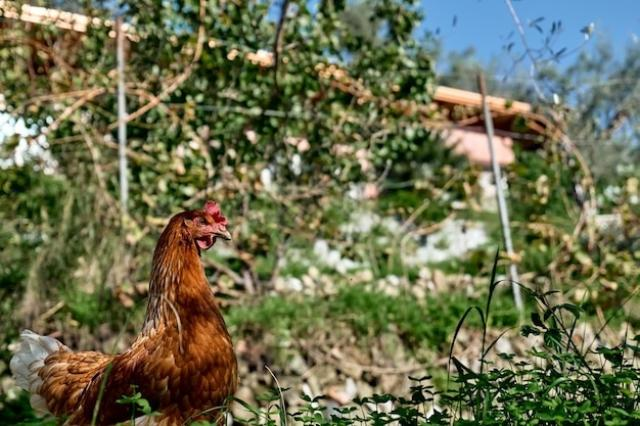Chicken: (11, 200, 237, 426)
